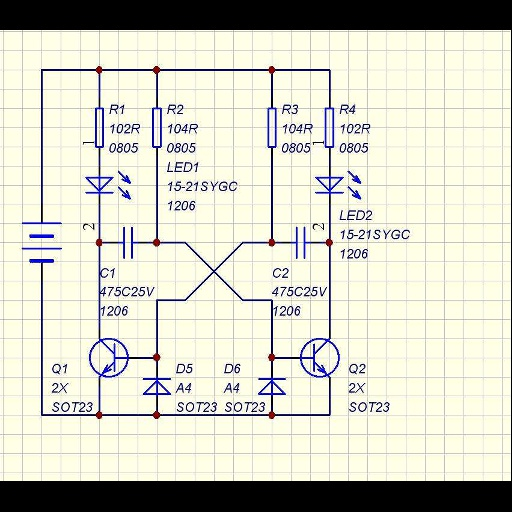battery: (19, 217, 64, 266)
capacitor: (117, 222, 138, 262), (291, 223, 309, 261)
firstresistance: (264, 105, 280, 151), (149, 106, 164, 151), (93, 105, 107, 151), (323, 105, 336, 152)
npn: (99, 339, 122, 377), (307, 341, 330, 375)
seconddiode: (142, 372, 172, 401), (252, 376, 293, 397)
secondled: (313, 163, 368, 204), (81, 164, 139, 202)
